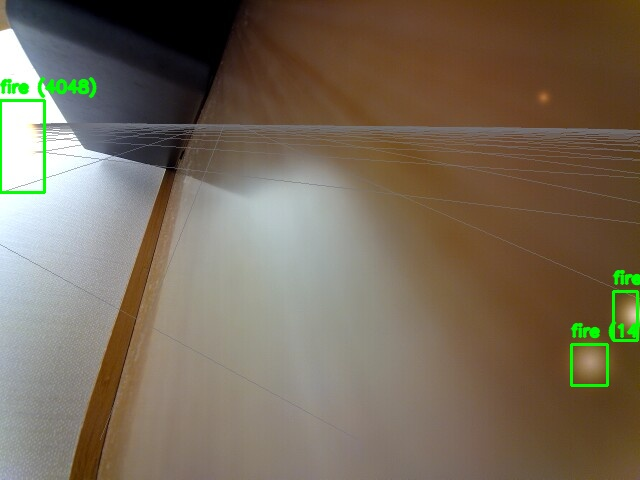fire: (0, 100, 44, 192), (571, 344, 607, 385), (613, 291, 637, 340)
